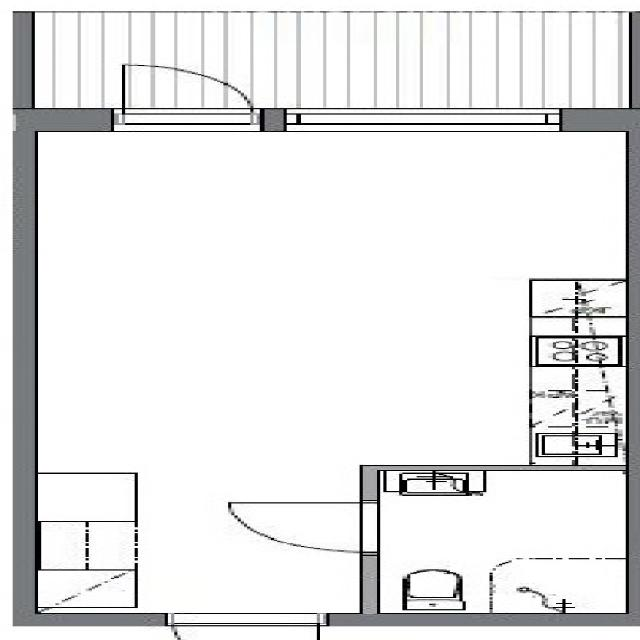door: (122, 60, 252, 130), (228, 502, 379, 552), (174, 612, 318, 640)
